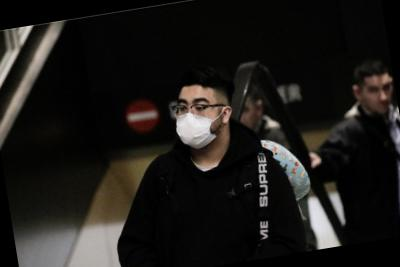with_mask: (170, 91, 226, 153)
without_mask: (365, 77, 399, 117)
